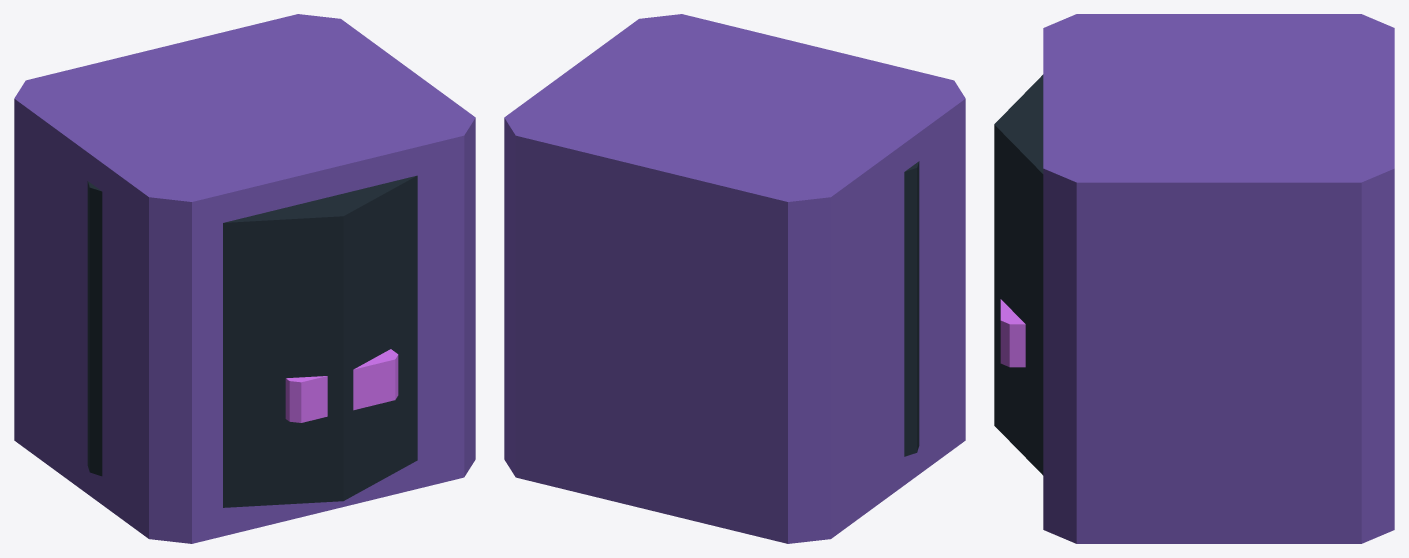
The model's file is enemy_tank_forearm_r.obj.
3 renders of one model, left to right at view 1: azimuth 30°, elevation 25°; view 2: azimuth 150°, elevation 25°; view 3: azimuth 270°, elevation 25°, orthographic. The views are drawn at different scales.
Size of the model in its own units: 0.4268 by 0.42 by 0.4218.
